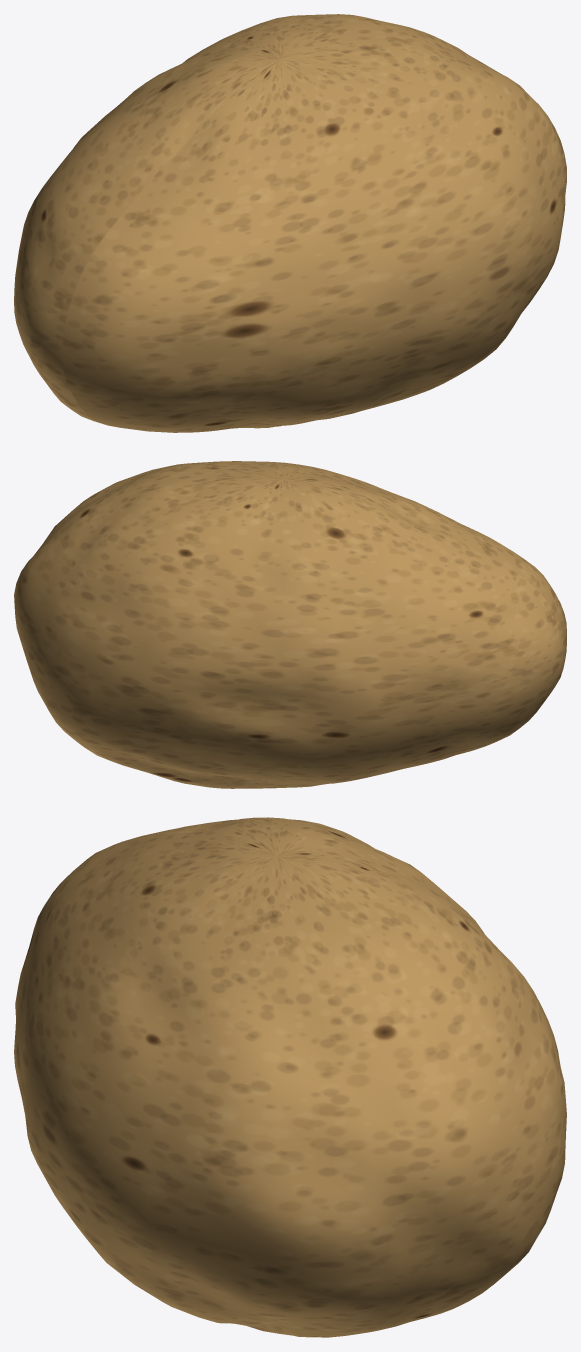
The model's file is Potato.glb.
The picture shows the model from 3 angles, top to bottom: view 1: azimuth 30°, elevation 25°; view 2: azimuth 150°, elevation 25°; view 3: azimuth 270°, elevation 25°; orthographic projection. The views are drawn at different scales.
Visible parts, largest first — view 1: Potato_Tuber; view 2: Potato_Tuber; view 3: Potato_Tuber.
Part boxes in pixels (x1=…): Potato_Tuber: x1=14, y1=14, x2=566, y2=432; Potato_Tuber: x1=14, y1=461, x2=566, y2=788; Potato_Tuber: x1=14, y1=817, x2=566, y2=1337.
Size of the model in its own units: 1.14 by 0.6816 by 0.8125.
Materials: 1 (1 with a texture image).
